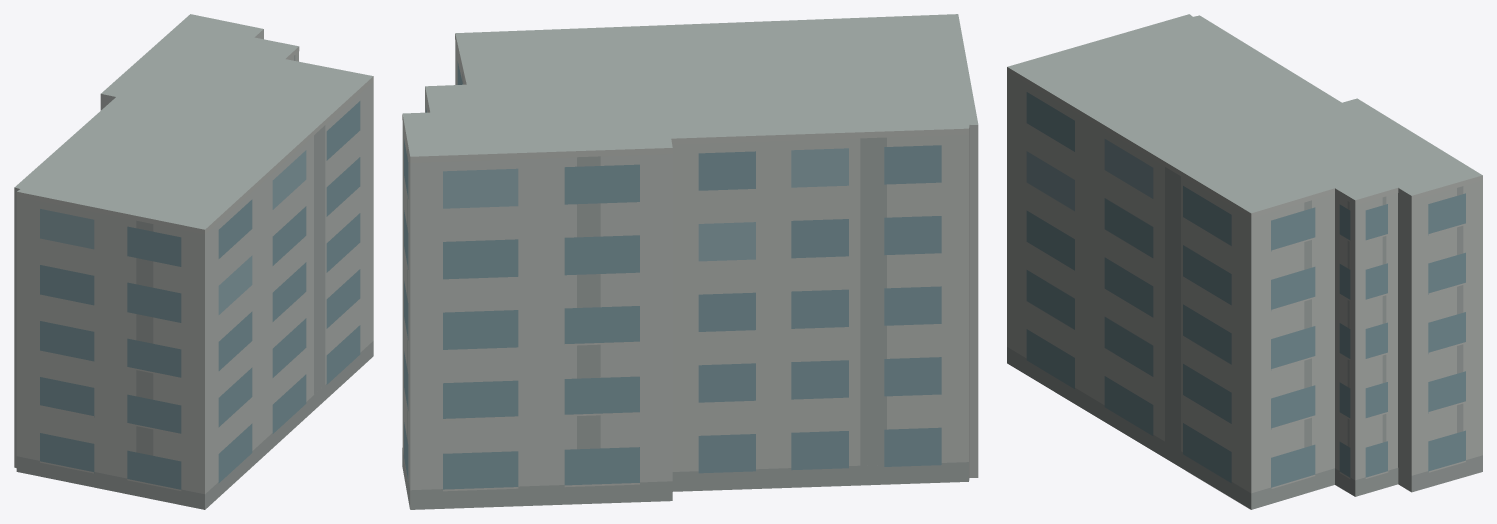
The model's file is survey-upis-32887381.glb.
3 views of the same model, side by side, from view 1: azimuth 30°, elevation 25°; view 2: azimuth 150°, elevation 25°; view 3: azimuth 270°, elevation 25° (orthographic). The views are drawn at different scales.
Visible parts, largest first — view 1: survey-upis-32887381.tmp; view 2: survey-upis-32887381.tmp; view 3: survey-upis-32887381.tmp.
Part boxes in pixels (x1=…): survey-upis-32887381.tmp: x1=14, y1=14, x2=373, y2=509; survey-upis-32887381.tmp: x1=402, y1=14, x2=978, y2=509; survey-upis-32887381.tmp: x1=1007, y1=14, x2=1482, y2=509.
Bounding box in the file's own units: 20.34 × 14.1 × 20.51.
